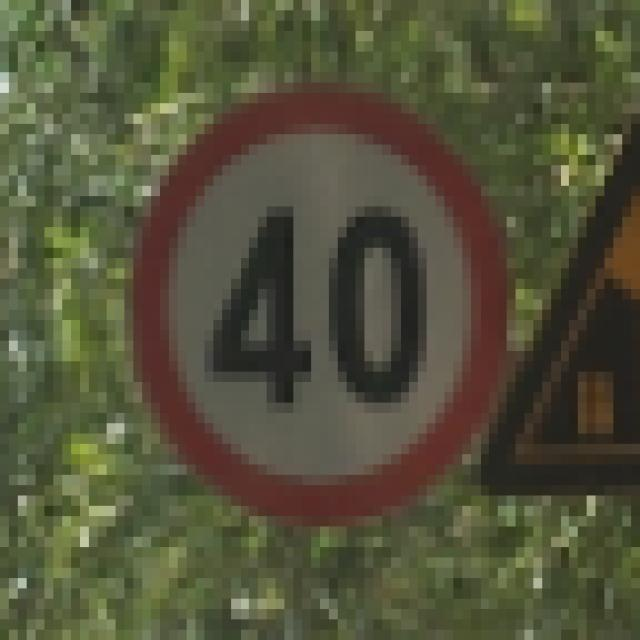Speed: (131, 52, 521, 529)
